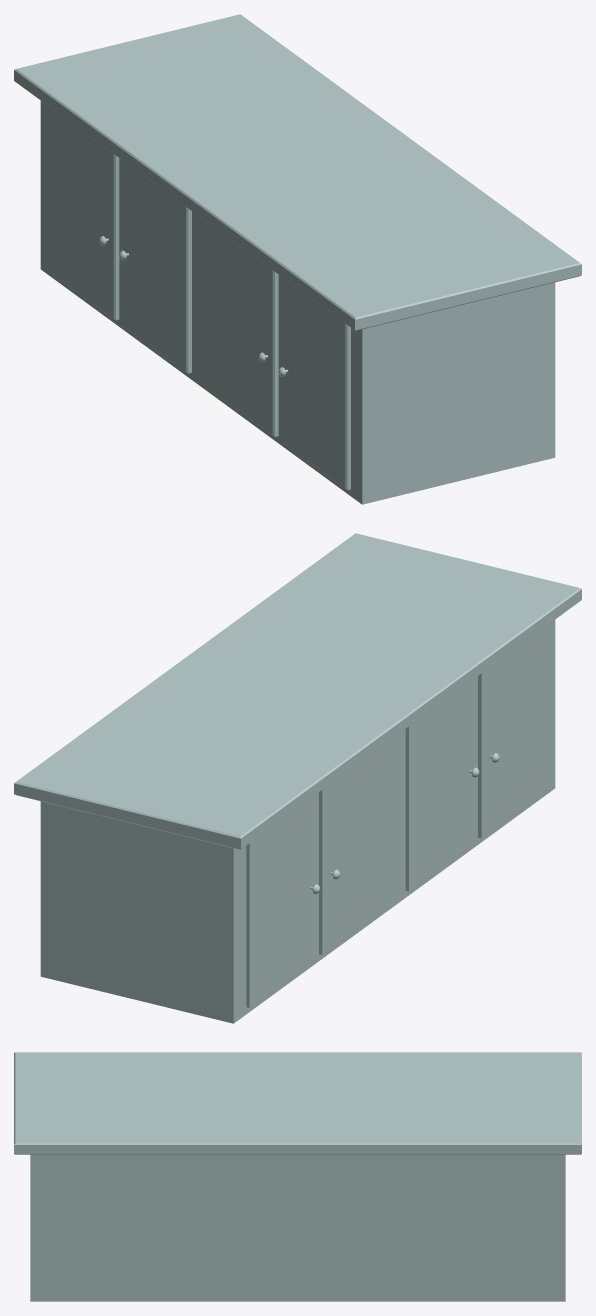
Rendered from kitchen counter.fbx.
The picture shows the model from 3 angles, top to bottom: view 1: azimuth 30°, elevation 25°; view 2: azimuth 150°, elevation 25°; view 3: azimuth 270°, elevation 25°; orthographic projection. The views are drawn at different scales.
Visible parts, largest first — view 1: group5_pCube109; view 2: group5_pCube109; view 3: group5_pCube109.
Boxes of the visible parts, <box> form: group5_pCube109: <box>14,14,581,504</box>; group5_pCube109: <box>14,533,581,1023</box>; group5_pCube109: <box>14,1052,581,1301</box>.
Bounding box in the file's own units: 360 × 299 × 936.
